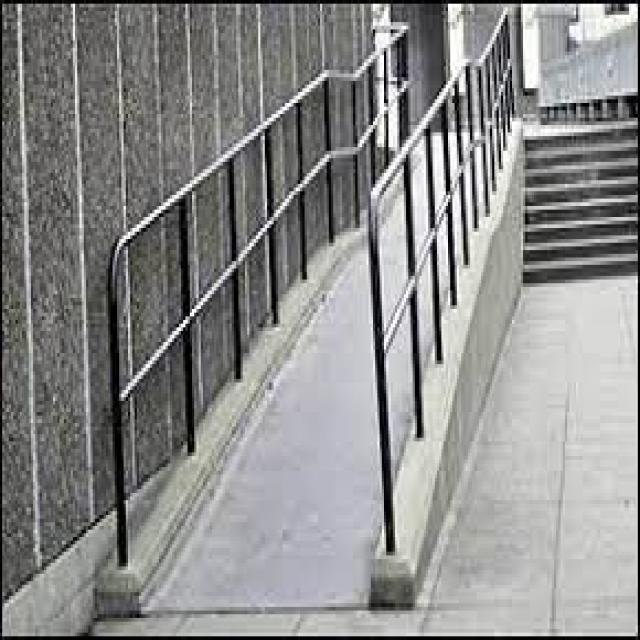AVOID: (523, 127, 640, 289)
CLIMB: (121, 132, 510, 610)
